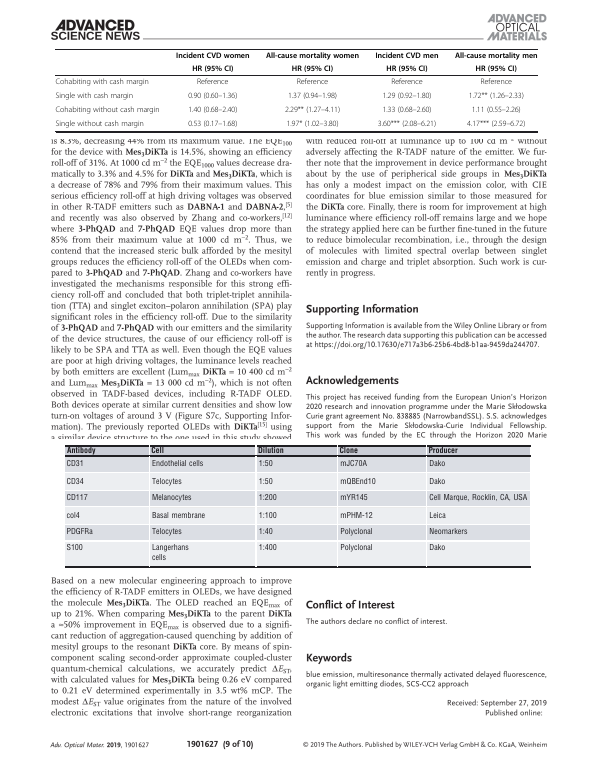borderless: (65, 444, 531, 566), (54, 47, 537, 131)
cell: (54, 105, 160, 115), (428, 493, 528, 503), (54, 77, 150, 87), (55, 119, 145, 129), (265, 51, 360, 60), (54, 91, 134, 101), (150, 543, 189, 563), (454, 51, 538, 60), (175, 51, 250, 60), (377, 119, 437, 129), (466, 119, 526, 129), (374, 51, 439, 60), (468, 91, 525, 101), (284, 105, 341, 115), (285, 119, 339, 129), (187, 91, 238, 101), (287, 91, 338, 101), (381, 91, 432, 101), (187, 105, 238, 115), (381, 105, 432, 115), (471, 105, 522, 115), (187, 119, 238, 129), (150, 511, 206, 520), (150, 459, 204, 468), (191, 64, 234, 74), (291, 64, 334, 74), (385, 64, 428, 74), (475, 64, 518, 74), (150, 493, 192, 503), (428, 527, 468, 537), (390, 77, 424, 87), (479, 77, 513, 87), (339, 527, 373, 537), (339, 543, 373, 553), (339, 477, 376, 486), (196, 77, 229, 87), (296, 77, 329, 87), (150, 527, 182, 537), (65, 446, 96, 456), (427, 446, 458, 456), (339, 511, 373, 520), (339, 493, 368, 503), (150, 477, 182, 486), (256, 446, 284, 456), (65, 527, 93, 537), (339, 459, 367, 468), (65, 493, 88, 503), (338, 446, 358, 456), (257, 493, 277, 503), (257, 543, 277, 553), (257, 511, 277, 520), (65, 543, 83, 553), (428, 543, 446, 553), (65, 459, 84, 468), (65, 477, 84, 486), (428, 459, 446, 468), (428, 477, 446, 486), (428, 511, 446, 520), (257, 527, 273, 537), (257, 459, 273, 468), (257, 477, 273, 486), (150, 446, 164, 456), (65, 511, 80, 520)
